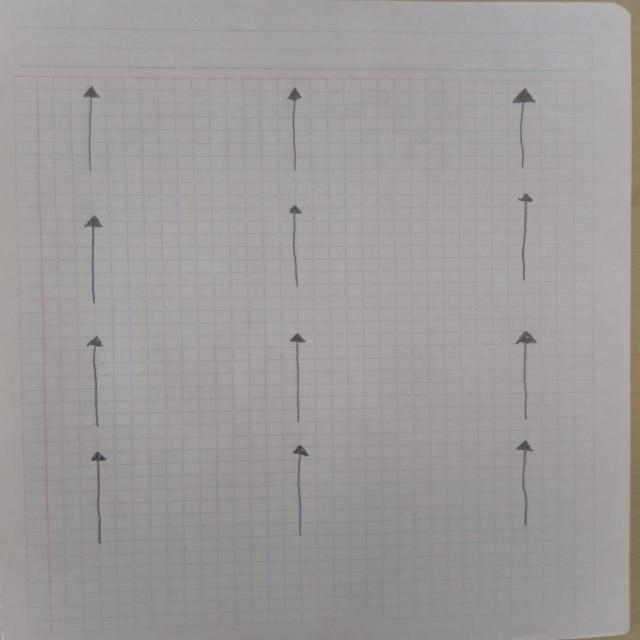arrow_line_up: (273, 87, 328, 193), (504, 327, 554, 427), (502, 436, 551, 534), (274, 202, 318, 294), (72, 204, 115, 296), (508, 80, 546, 181), (505, 189, 541, 289), (72, 70, 105, 178), (284, 441, 324, 527), (82, 329, 116, 430), (282, 330, 312, 431), (82, 448, 110, 554)
